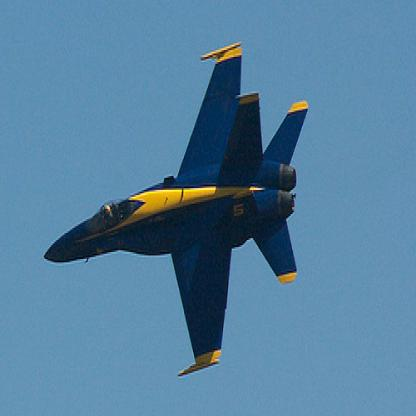aeroplane: (40, 35, 312, 378)
